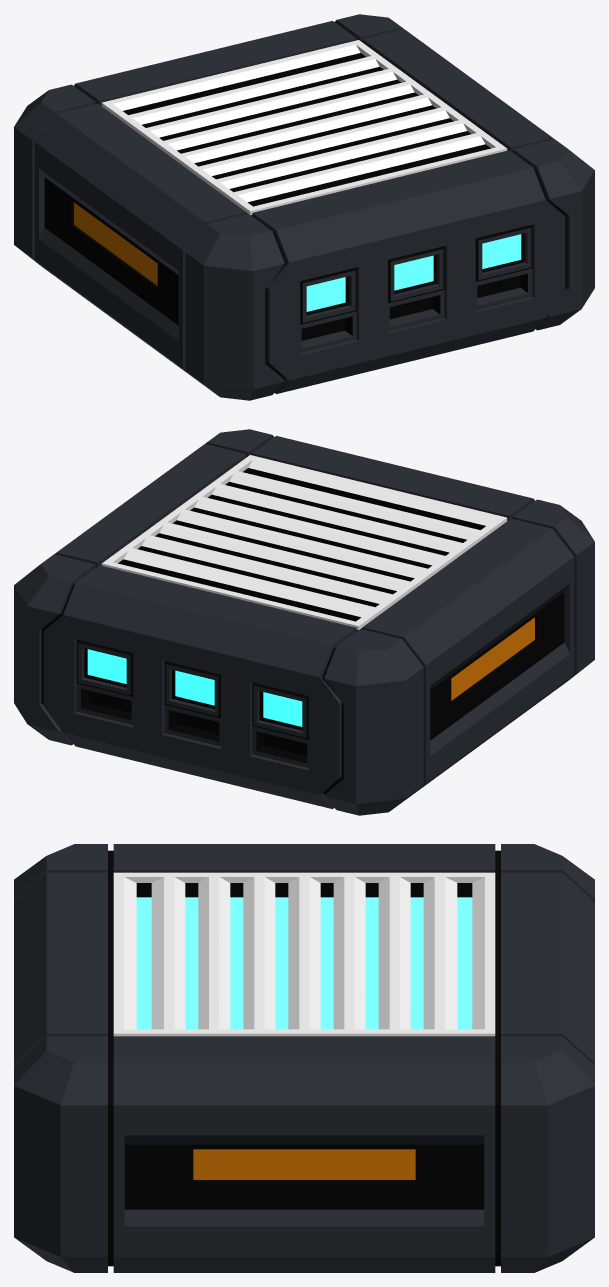
Rendered from SM_Cable_Distribution_Node.fbx.
The picture shows the model from 3 angles, top to bottom: view 1: azimuth 30°, elevation 25°; view 2: azimuth 150°, elevation 25°; view 3: azimuth 270°, elevation 25°; orthographic projection. The views are drawn at different scales.
Visible parts, largest first — view 1: SM_Cable_Distribution_Node; view 2: SM_Cable_Distribution_Node; view 3: SM_Cable_Distribution_Node.
Part boxes in pixels (bbox=[...]): SM_Cable_Distribution_Node: bbox=[14, 14, 594, 400]; SM_Cable_Distribution_Node: bbox=[14, 429, 594, 815]; SM_Cable_Distribution_Node: bbox=[14, 844, 594, 1272].
Bounding box in the file's own units: 25 × 10 × 25.
